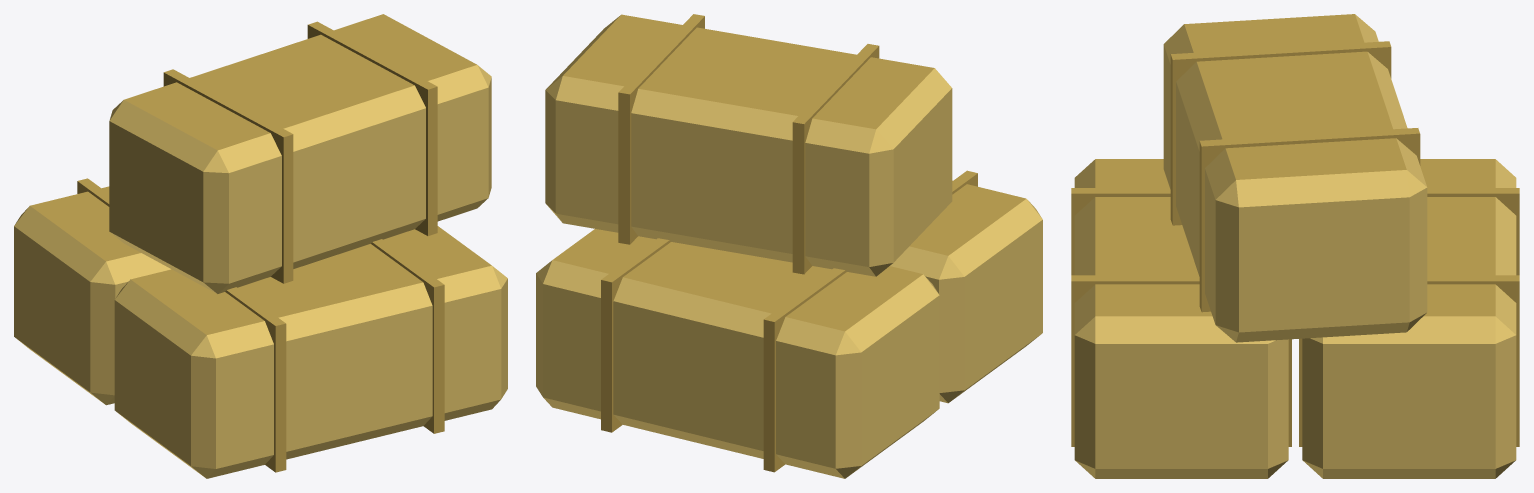
Rendered from hay_bales.glb.
The picture shows the model from 3 angles, left to right: view 1: azimuth 30°, elevation 25°; view 2: azimuth 150°, elevation 25°; view 3: azimuth 270°, elevation 25°; orthographic projection. The views are drawn at different scales.
Visible parts, largest first — view 1: LOD0; view 2: LOD0; view 3: LOD0.
Part boxes in pixels (box(x1,y1,x2,y2)): LOD0: box(14, 14, 507, 478); LOD0: box(536, 14, 1042, 478); LOD0: box(1071, 14, 1519, 478).
Size of the model in its own units: 1.38 by 1.05 by 1.3.
1 material, 1 textured.
